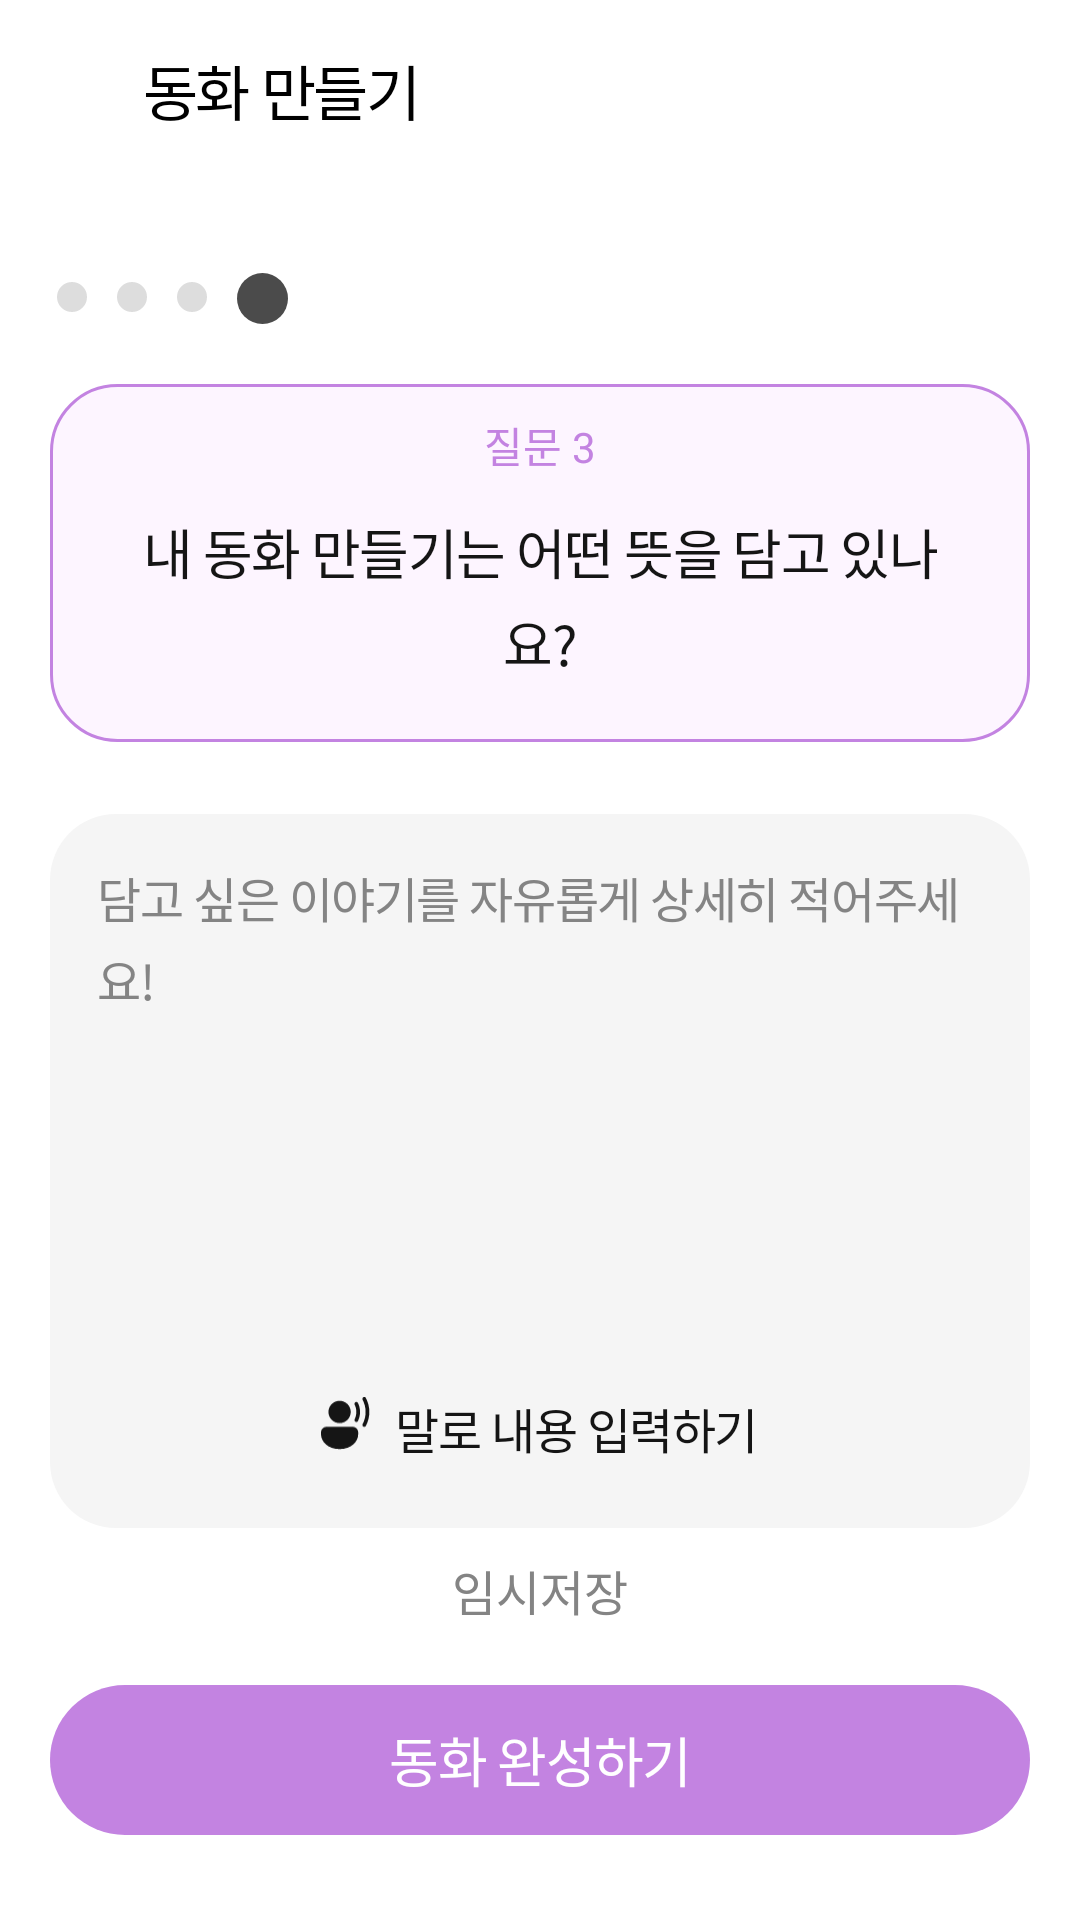

Icons on this 1080×1920 Android screen, each with its box as {"x1": x1, "y1": y1, "x2": x2, "y2": y2}:
음성 입력: {"x1": 321, "y1": 1397, "x2": 370, "y2": 1450}
